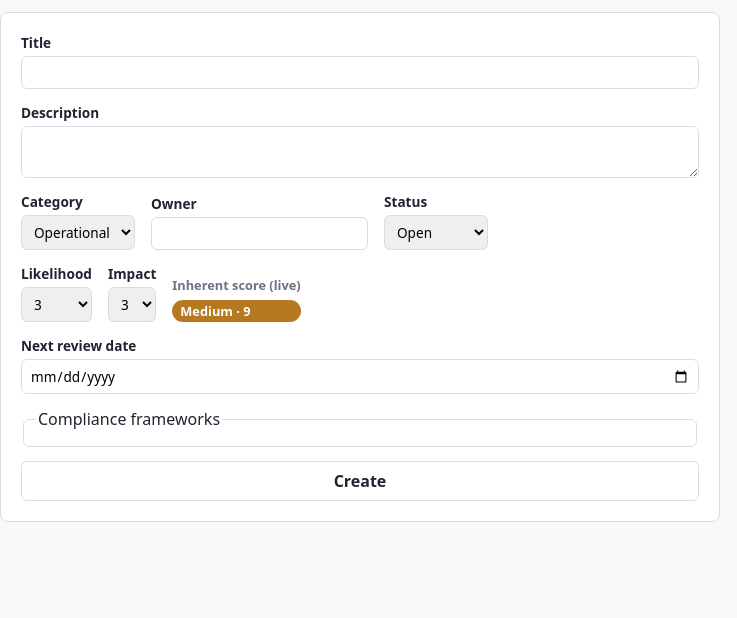
Test case: RiskForm live inherent score › surfaces server field errors inline
What coordinates should you click on to do the following:
click the button "Create"
I would click on:
 (360, 481)
Its box is [21,461,699,501].
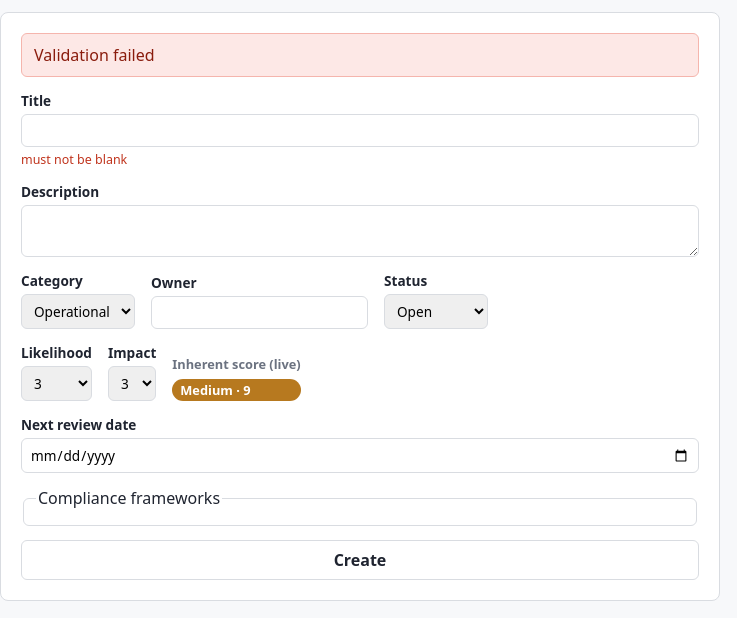
Expected: the text "must not be blank" is shown, [21,151,127,168]
